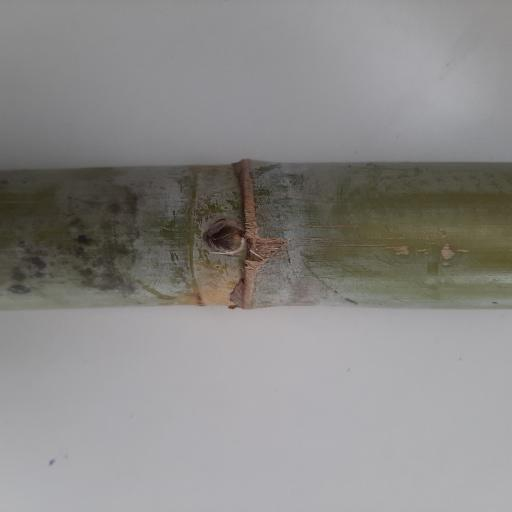Bud: (205, 221, 246, 253)
